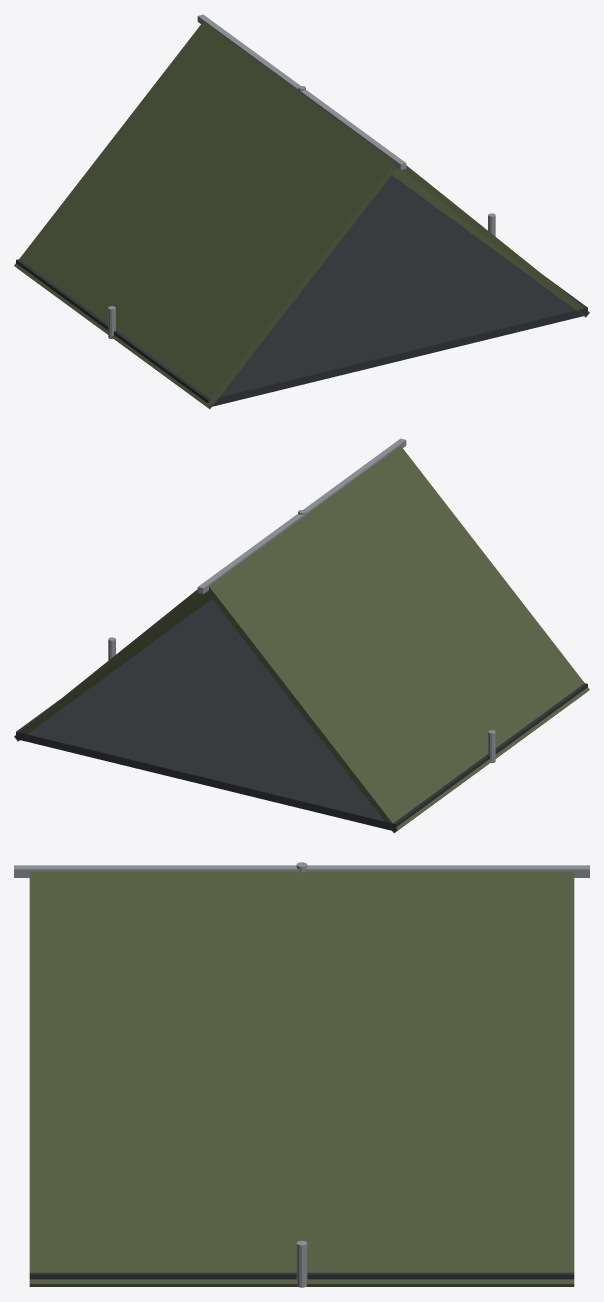
File: FieldTent.fbx
The picture shows the model from 3 angles, top to bottom: view 1: azimuth 30°, elevation 25°; view 2: azimuth 150°, elevation 25°; view 3: azimuth 270°, elevation 25°; orthographic projection. The views are drawn at different scales.
Parts seen in each view (by area): view 1: Tent_Canvas, Tent_Floor, Tent_Canvas.001, Tent_Ridge; view 2: Tent_Canvas, Tent_Floor, Tent_Canvas.001, Tent_Ridge; view 3: Tent_Canvas.001, Tent_Floor, Tent_Ridge.
Part boxes in pixels (x1,y1,x2,y2): Tent_Canvas: [14, 22, 396, 409]; Tent_Floor: [16, 175, 587, 407]; Tent_Canvas.001: [392, 165, 589, 317]; Tent_Ridge: [197, 14, 406, 170]; Tent_Canvas: [207, 446, 589, 833]; Tent_Floor: [16, 599, 587, 831]; Tent_Canvas.001: [14, 589, 211, 741]; Tent_Ridge: [197, 438, 406, 594]; Tent_Canvas.001: [29, 872, 574, 1286]; Tent_Floor: [29, 1272, 574, 1279]; Tent_Ridge: [14, 865, 589, 877].
Size of the model in its own units: 814 by 414 by 740.
